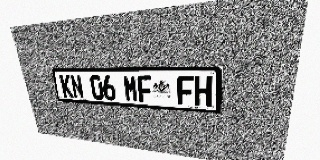0: (89, 75, 104, 100)
6: (101, 75, 117, 101)
F: (177, 76, 194, 106), (137, 75, 153, 103)
H: (194, 76, 212, 107)
K: (59, 75, 74, 98)
M: (123, 75, 139, 102)
N: (70, 75, 84, 99)
